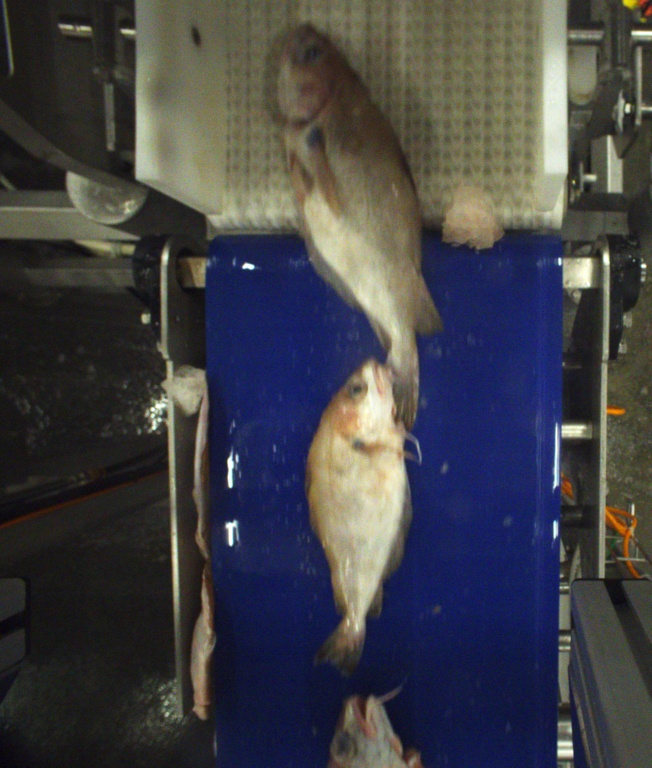BIB: (264, 20, 443, 439)
